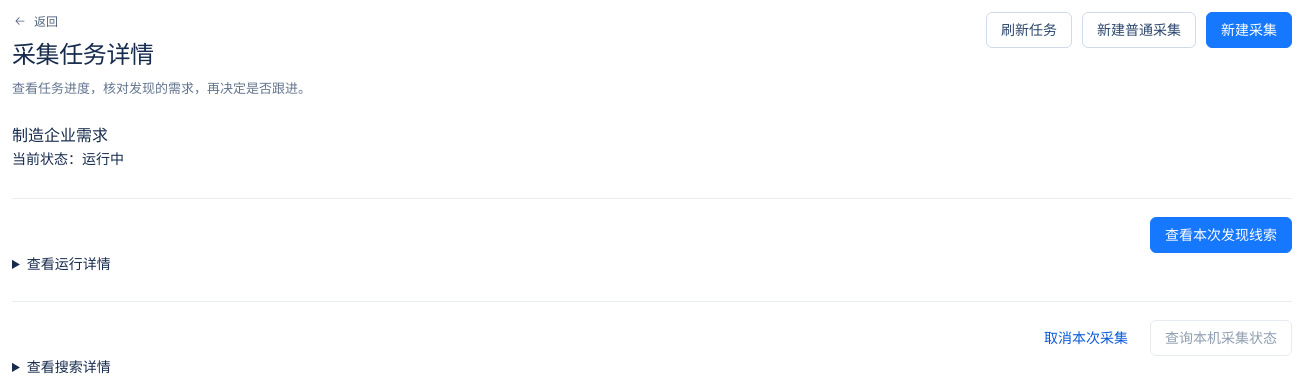
refreshes running detail without clearing it and stops reading at completion
The width and height of the screenshot is (1304, 391).
expect the text "当前状态：运行中" is shown: met, box 12,150 -> 124,167
Click the button "刷新任务".
click(1029, 30)  # box 986,12 -> 1072,48
Wait 12000 ms
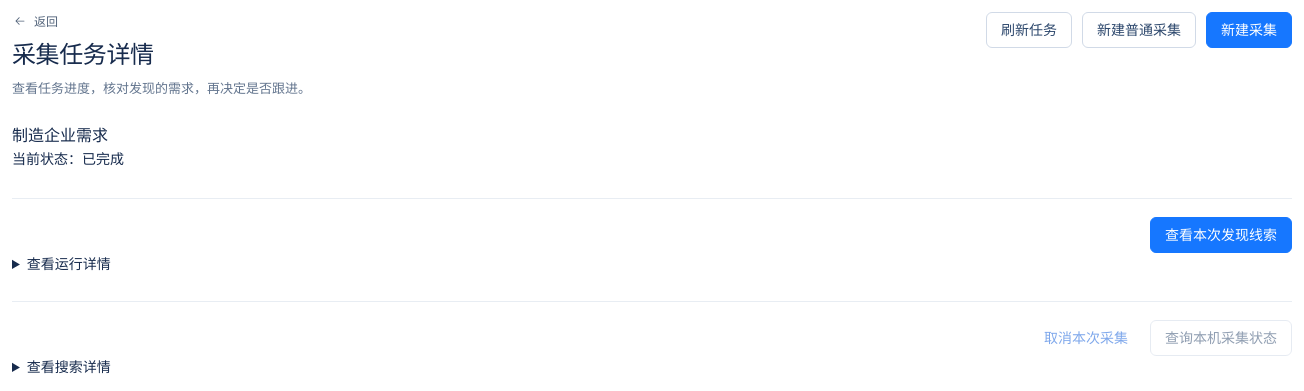
expect the text "当前状态：已完成" is shown: met, box 12,150 -> 124,167
